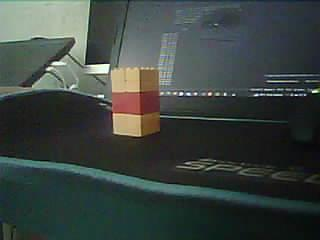lego: (110, 66, 160, 137)
